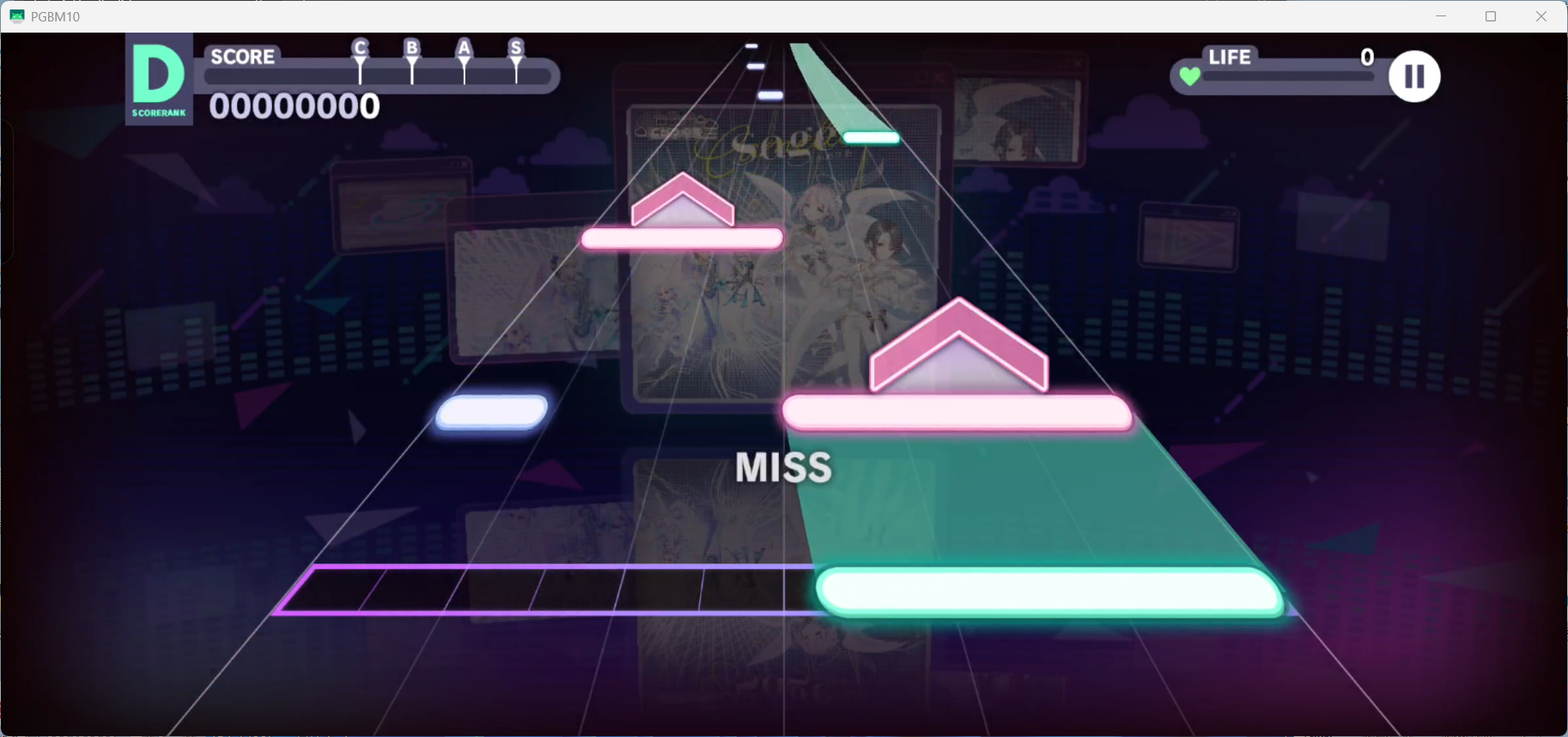flick: (865, 296, 1049, 402), (630, 169, 734, 227)
hold: (788, 428, 1267, 572), (790, 43, 896, 131)
tap: (815, 567, 1285, 619), (783, 394, 1133, 432), (435, 396, 548, 431), (581, 228, 782, 247), (842, 131, 899, 143), (757, 91, 783, 100), (746, 63, 764, 69), (744, 43, 757, 48)
